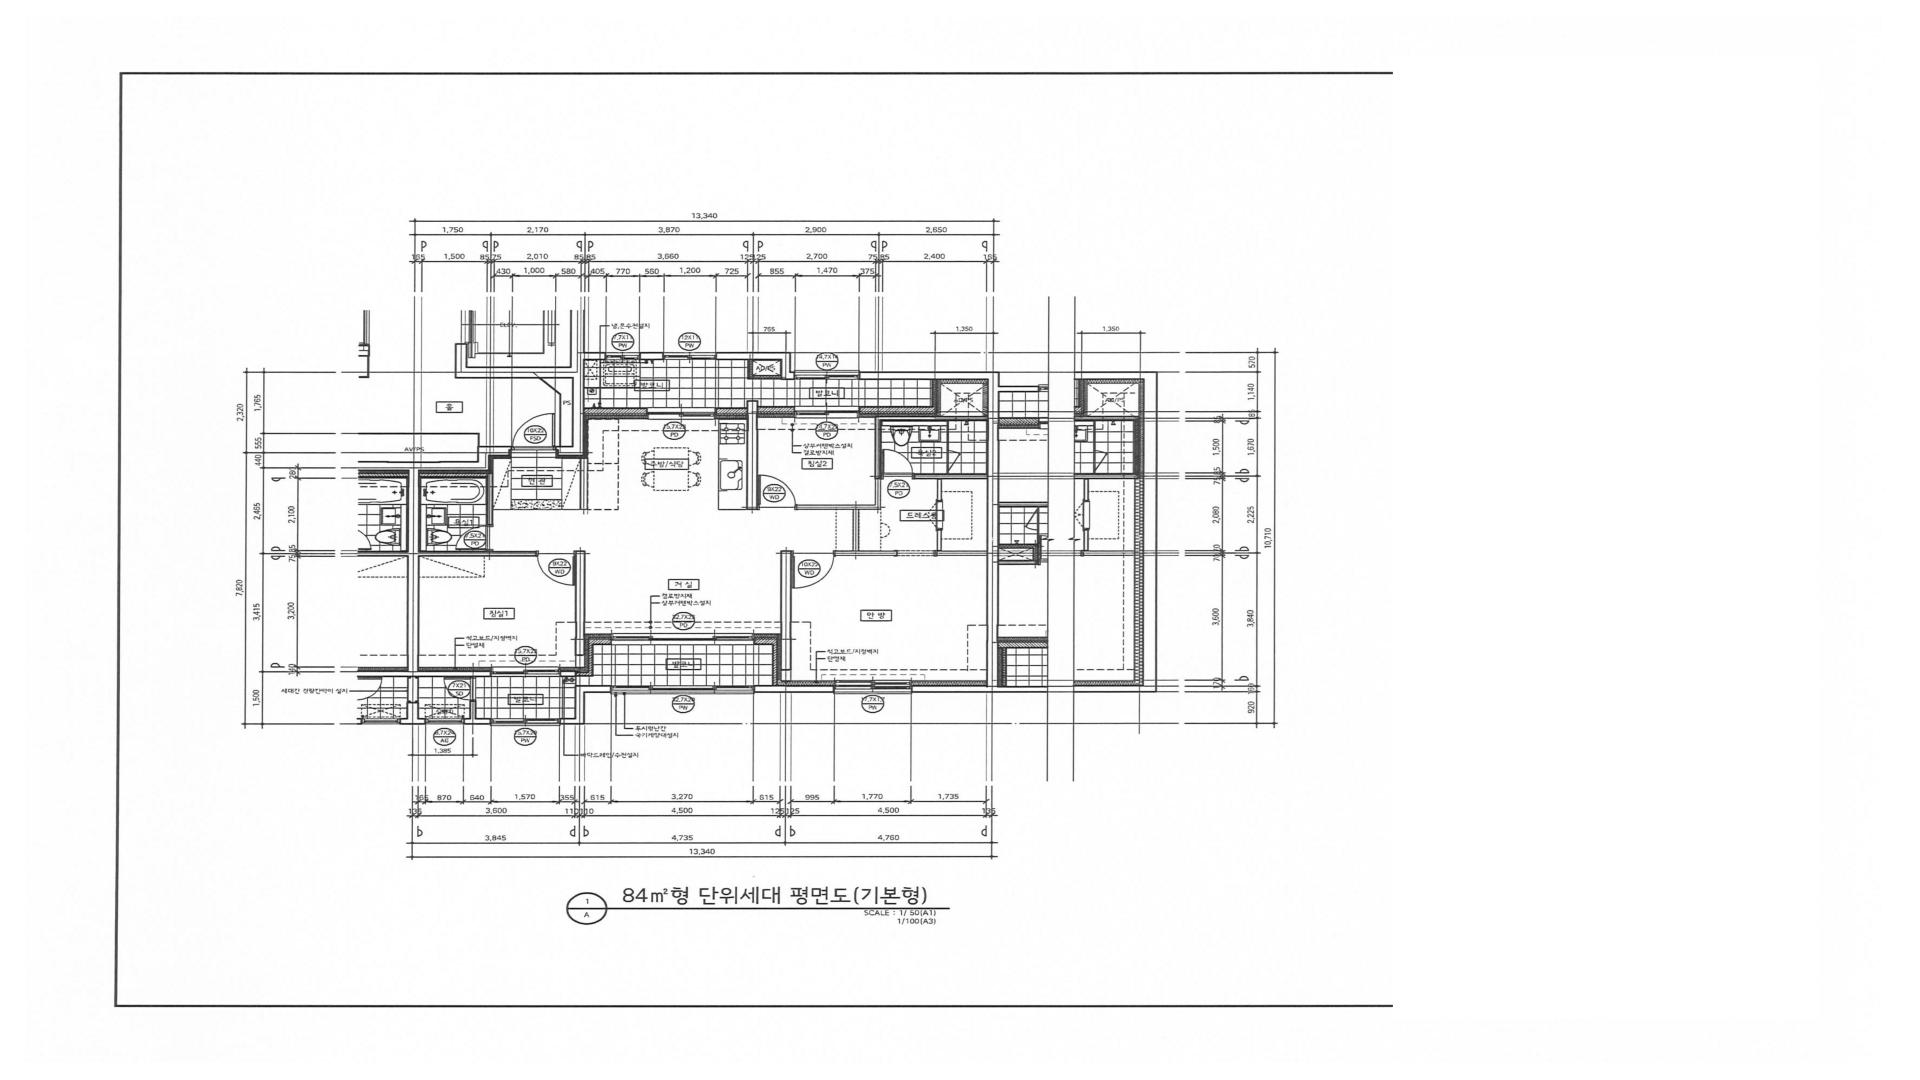door: (791, 550, 836, 588), (512, 413, 555, 450), (758, 475, 798, 510), (535, 551, 576, 585), (882, 448, 915, 480), (455, 525, 493, 551), (443, 676, 476, 702), (947, 450, 961, 473), (895, 550, 938, 556)
wall: (986, 372, 1000, 686), (407, 471, 421, 671), (570, 310, 585, 455), (781, 551, 791, 680), (455, 367, 570, 378), (746, 401, 758, 510), (575, 550, 585, 667), (357, 462, 477, 471), (860, 372, 988, 380), (477, 446, 512, 471), (419, 550, 535, 556), (357, 671, 492, 676), (858, 406, 936, 414), (911, 686, 998, 692), (881, 415, 988, 421), (406, 676, 419, 719), (754, 686, 833, 692), (716, 352, 781, 360), (584, 407, 647, 415), (579, 459, 588, 510), (798, 505, 881, 510), (874, 415, 881, 479), (836, 550, 895, 556), (915, 473, 988, 479), (539, 378, 562, 394), (421, 473, 488, 479), (575, 686, 585, 717), (938, 550, 986, 556), (455, 344, 468, 367), (758, 406, 795, 414), (488, 473, 493, 525), (852, 509, 858, 550), (715, 407, 746, 415), (779, 352, 791, 372), (585, 686, 612, 694), (640, 352, 663, 360), (588, 638, 593, 673), (754, 637, 777, 645), (748, 375, 781, 380), (874, 479, 881, 505), (585, 352, 607, 360), (357, 433, 480, 434), (773, 645, 777, 686), (555, 446, 572, 455), (406, 717, 426, 725), (560, 717, 584, 724), (464, 719, 491, 724), (932, 380, 938, 406), (469, 702, 477, 719), (559, 394, 562, 446), (593, 638, 612, 645), (781, 372, 795, 380), (936, 530, 942, 550), (938, 479, 942, 501), (560, 671, 576, 676), (947, 421, 949, 450), (748, 360, 753, 375), (576, 673, 593, 676), (477, 434, 480, 446)
window: (612, 633, 754, 645), (611, 686, 754, 695), (833, 680, 911, 694), (647, 407, 715, 419), (795, 406, 858, 418), (492, 667, 560, 676), (795, 371, 860, 380), (491, 719, 560, 727), (663, 352, 716, 360), (605, 352, 640, 360), (426, 719, 464, 724)
